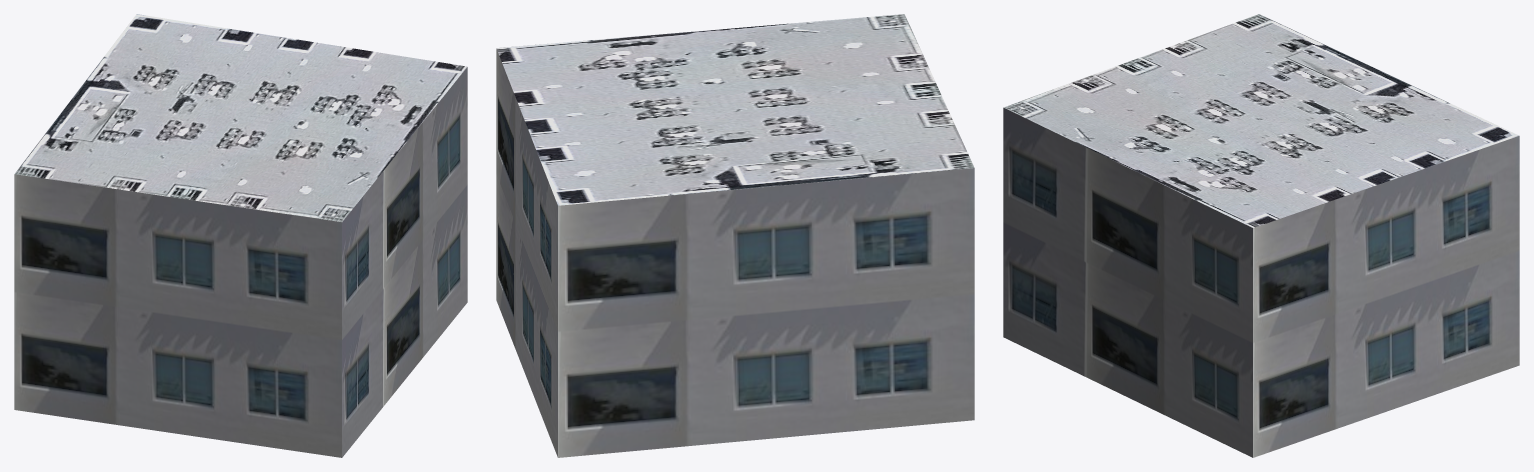
Rendered from ResTex__7.fbx.
The picture shows the model from 3 angles, left to right: view 1: azimuth 30°, elevation 25°; view 2: azimuth 150°, elevation 25°; view 3: azimuth 270°, elevation 25°; orthographic projection. The views are drawn at different scales.
Visible parts, largest first — view 1: CityEngineMaterial_10_m, CityEngineMaterial_8_m; view 2: CityEngineMaterial_10_m, CityEngineMaterial_8_m; view 3: CityEngineMaterial_10_m, CityEngineMaterial_8_m.
Boxes of the visible parts, box(x1,y1,x2,y2) form: CityEngineMaterial_10_m: box(14, 67, 467, 457); CityEngineMaterial_8_m: box(14, 14, 467, 221); CityEngineMaterial_10_m: box(496, 49, 974, 457); CityEngineMaterial_8_m: box(496, 14, 974, 205); CityEngineMaterial_10_m: box(1003, 107, 1519, 457); CityEngineMaterial_8_m: box(1004, 14, 1518, 227).
Bounding box in the file's own units: 11.99 × 6 × 12.21.
2 materials, 2 textured.
